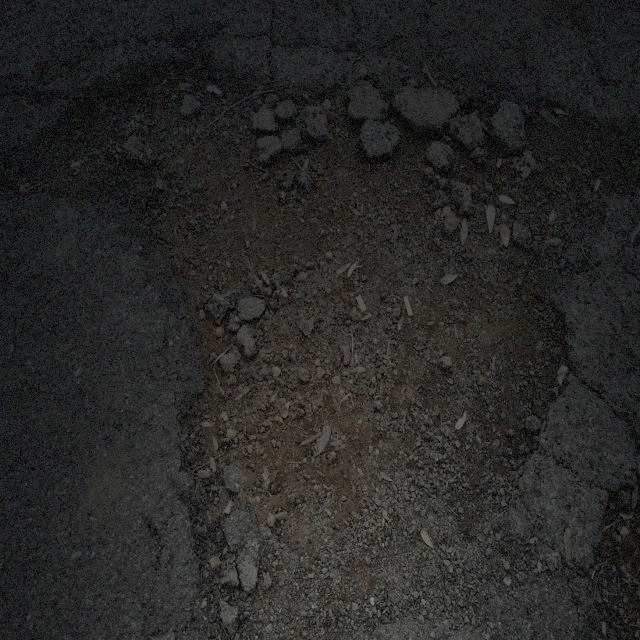pothole: (55, 54, 598, 558)
